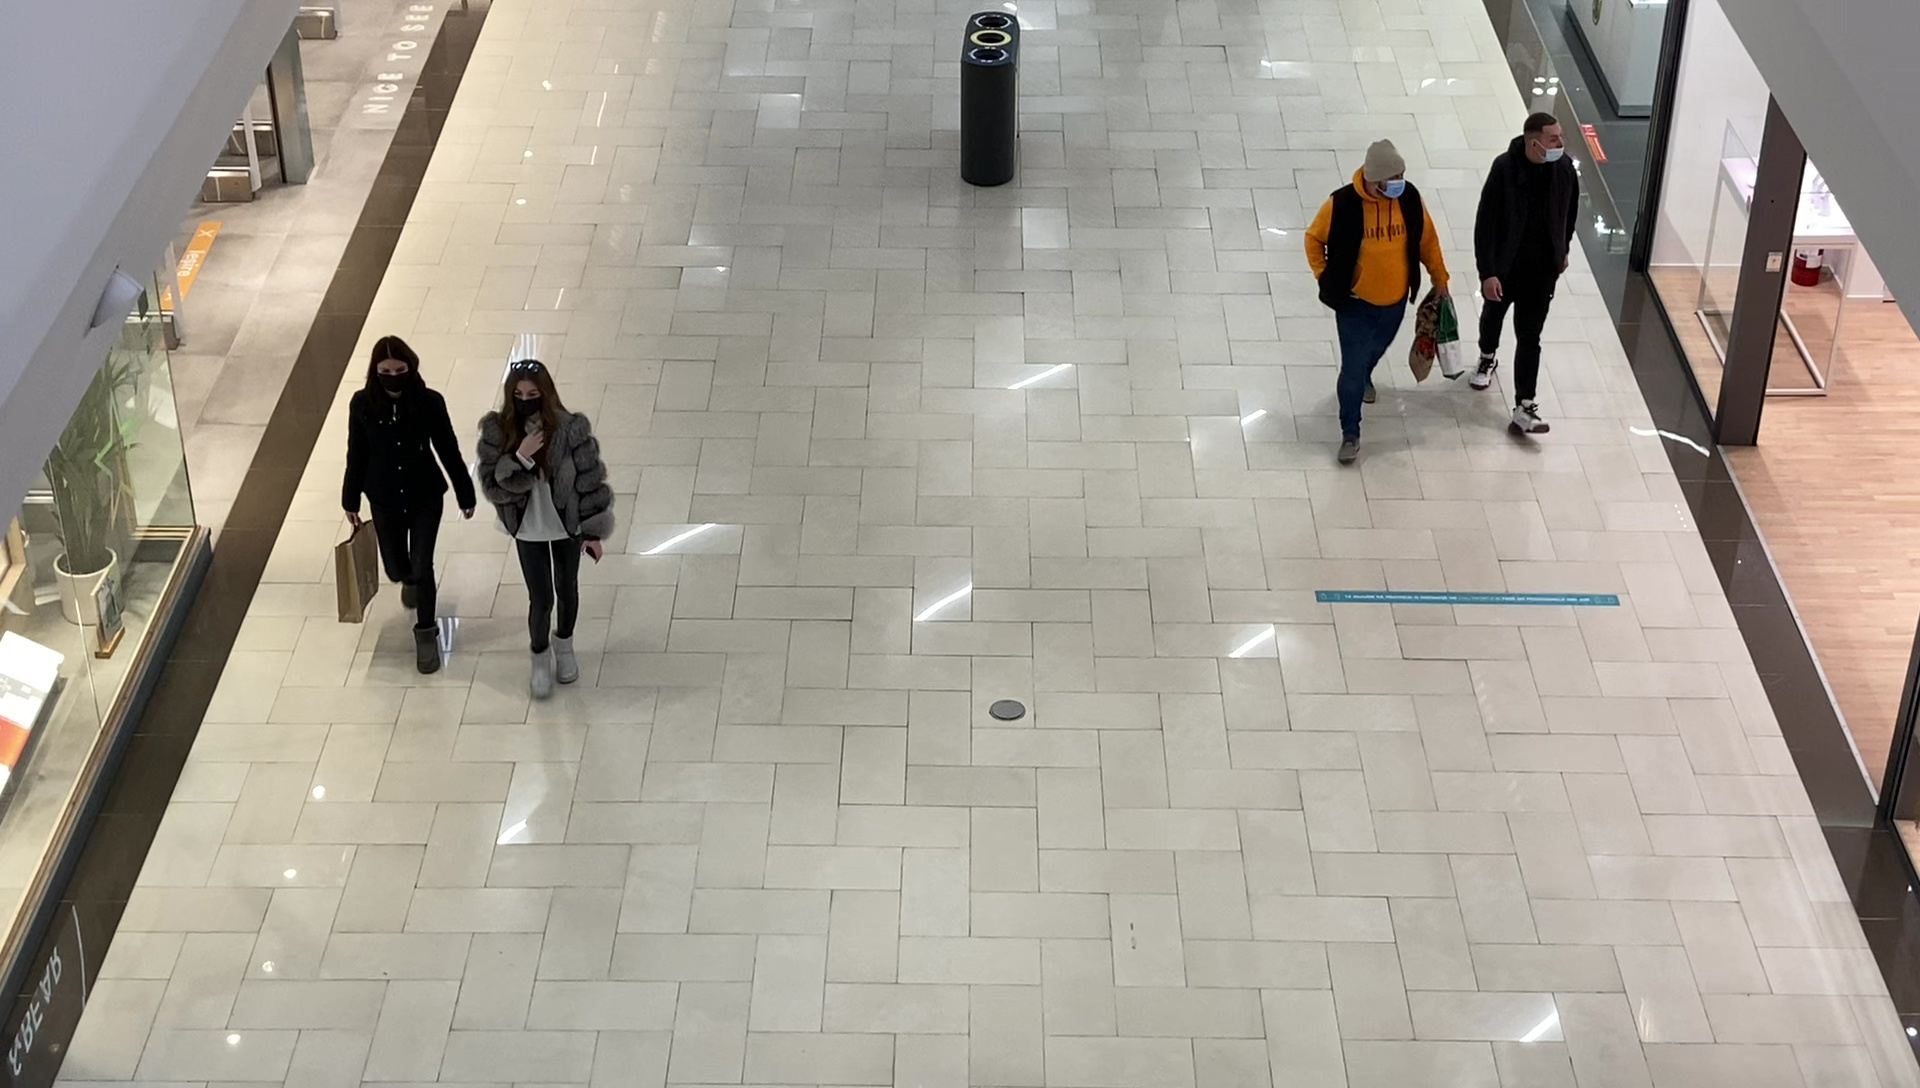person: (476, 361, 618, 703), (1305, 138, 1453, 463), (345, 335, 476, 677), (1474, 114, 1581, 436)
